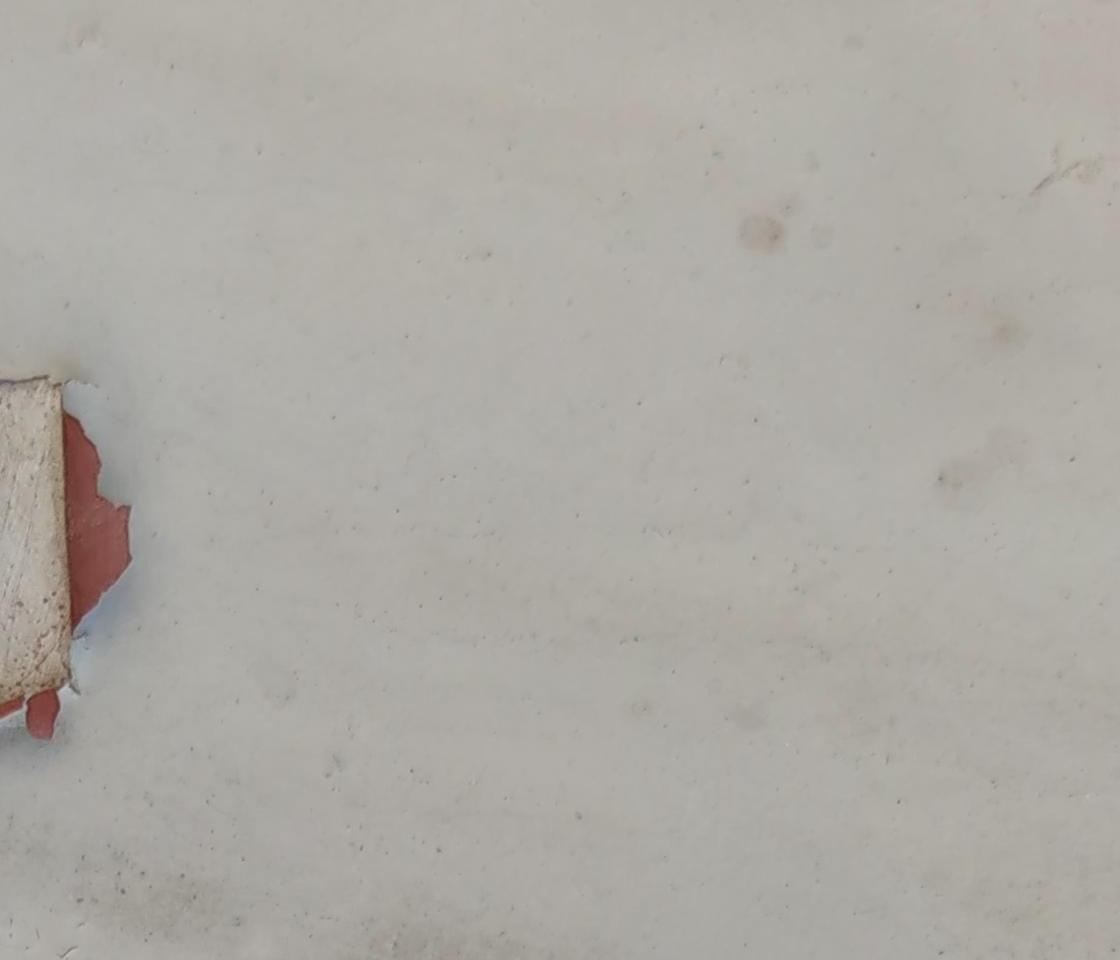paint_peel: (59, 362, 144, 684)
